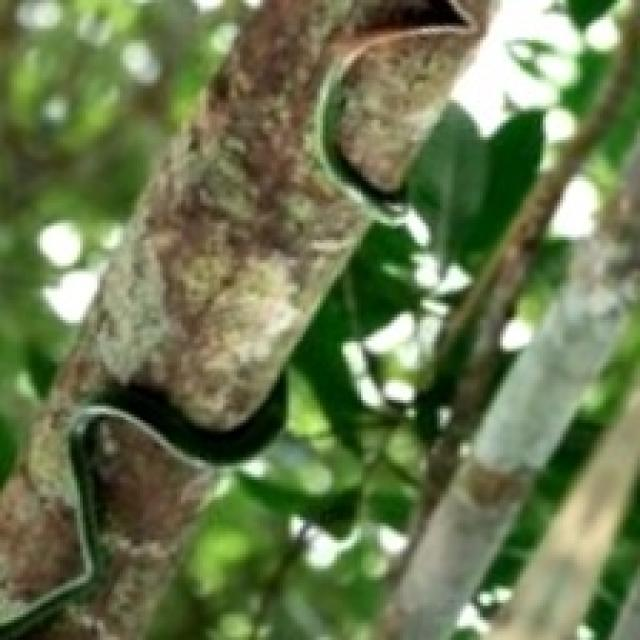red-tailed green ratsnake: (0, 373, 285, 639), (318, 0, 474, 221)
